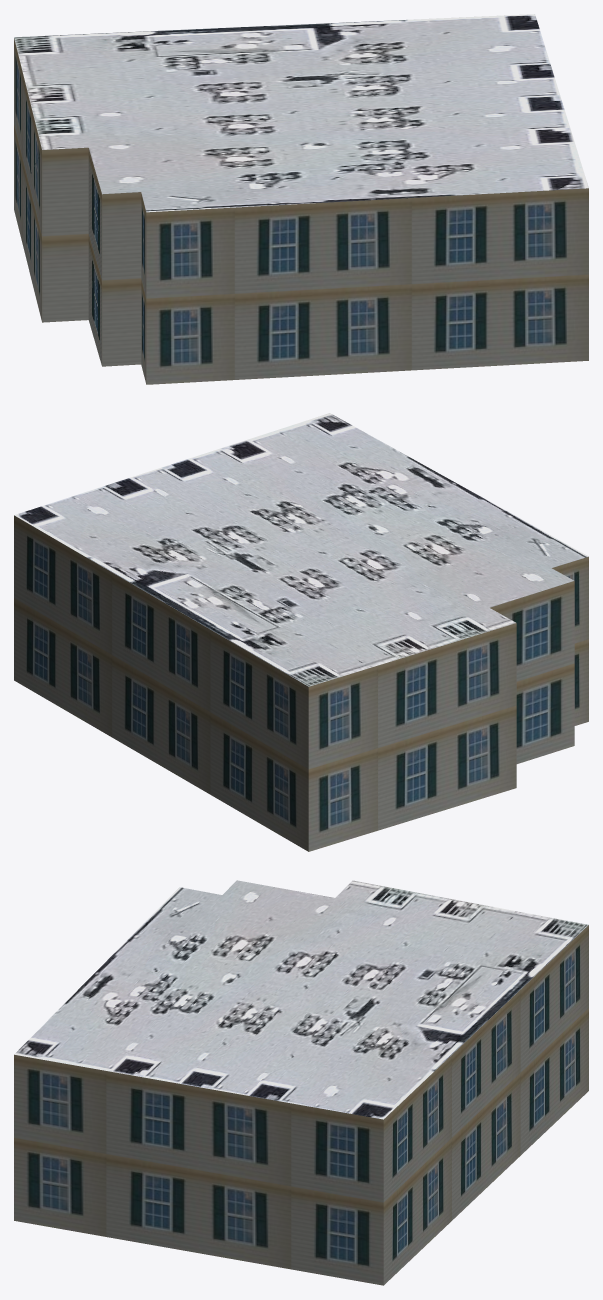
File: ResTex__2364.fbx
3 renders of one model, top to bottom at view 1: azimuth 30°, elevation 25°; view 2: azimuth 150°, elevation 25°; view 3: azimuth 270°, elevation 25°, orthographic. The views are drawn at different scales.
Visible parts, largest first — view 1: CityEngineMaterial_7_m, CityEngineMaterial_15_m; view 2: CityEngineMaterial_7_m, CityEngineMaterial_15_m; view 3: CityEngineMaterial_7_m, CityEngineMaterial_15_m.
Part boxes in pixels (<box>): CityEngineMaterial_7_m: <box>14,38,588,384</box>; CityEngineMaterial_15_m: <box>14,14,588,212</box>; CityEngineMaterial_7_m: <box>14,515,588,851</box>; CityEngineMaterial_15_m: <box>14,413,588,686</box>; CityEngineMaterial_7_m: <box>14,925,588,1285</box>; CityEngineMaterial_15_m: <box>14,880,588,1119</box>.
Size of the model in its own units: 18.54 by 6 by 18.82.
Materials: 2 (2 with a texture image).
